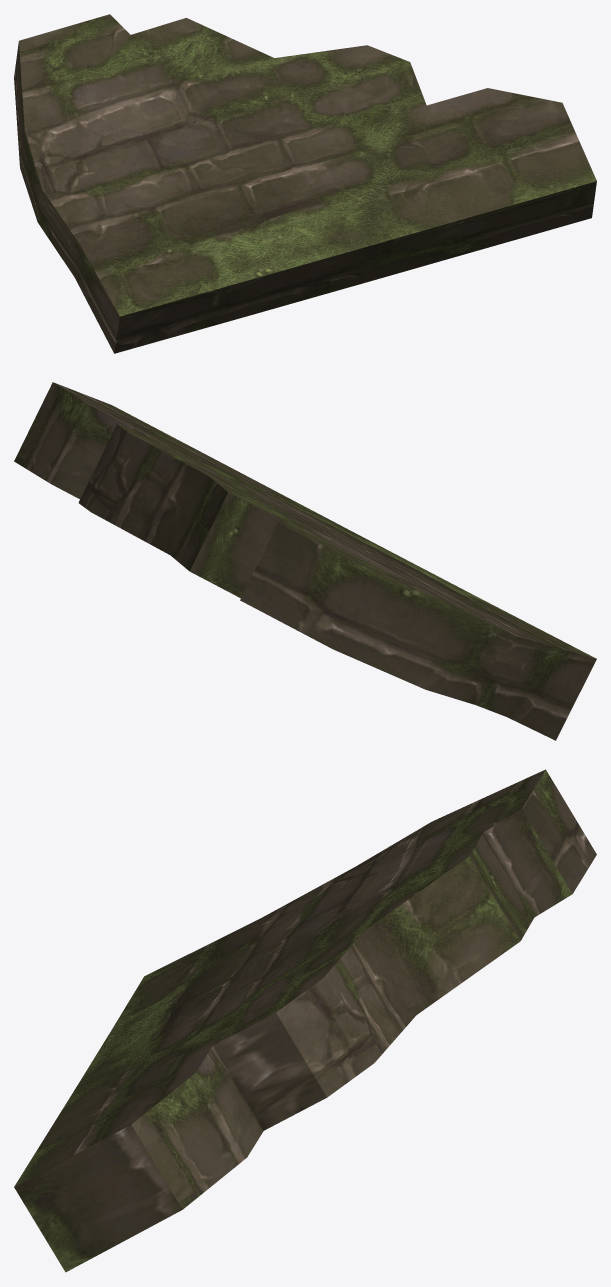
File: yj_shuiqang_1.FBX
The picture shows the model from 3 angles, top to bottom: view 1: azimuth 30°, elevation 25°; view 2: azimuth 150°, elevation 25°; view 3: azimuth 270°, elevation 25°; orthographic projection. The views are drawn at different scales.
Parts seen in each view (by area): view 1: yj_shuiqang_1; view 2: yj_shuiqang_1; view 3: yj_shuiqang_1.
Part boxes in pixels (x1=…): yj_shuiqang_1: x1=14, y1=14, x2=596, y2=353; yj_shuiqang_1: x1=14, y1=382, x2=596, y2=740; yj_shuiqang_1: x1=14, y1=769, x2=596, y2=1272.
Bounding box in the file's own units: 25.78 × 12.49 × 19.96.
